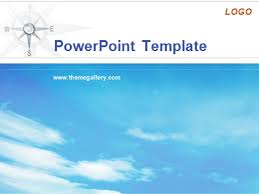sky: (2, 69, 259, 193)
